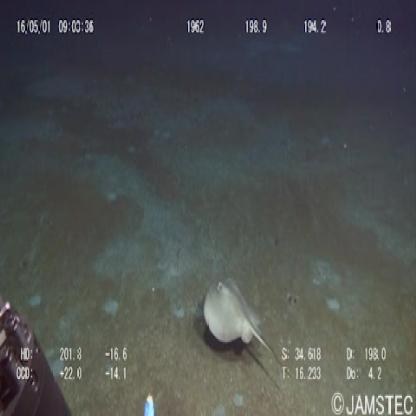Bio: (199, 273, 289, 371)
Rov: (1, 291, 74, 416)
